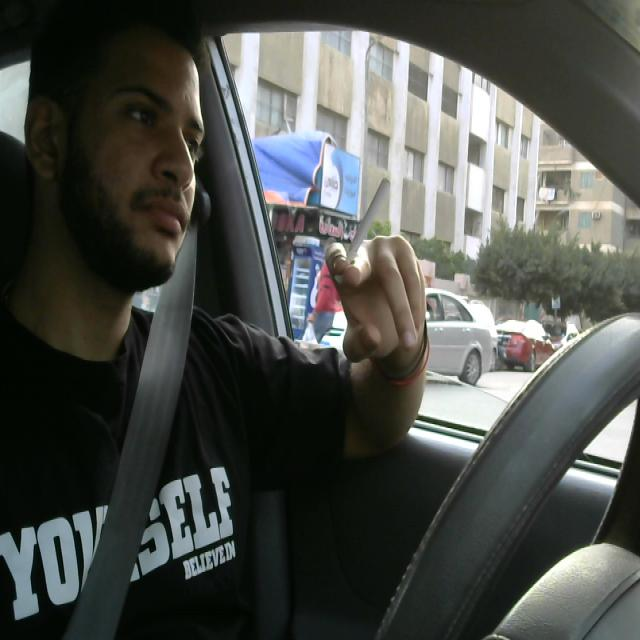smoking: (329, 175, 389, 280)
